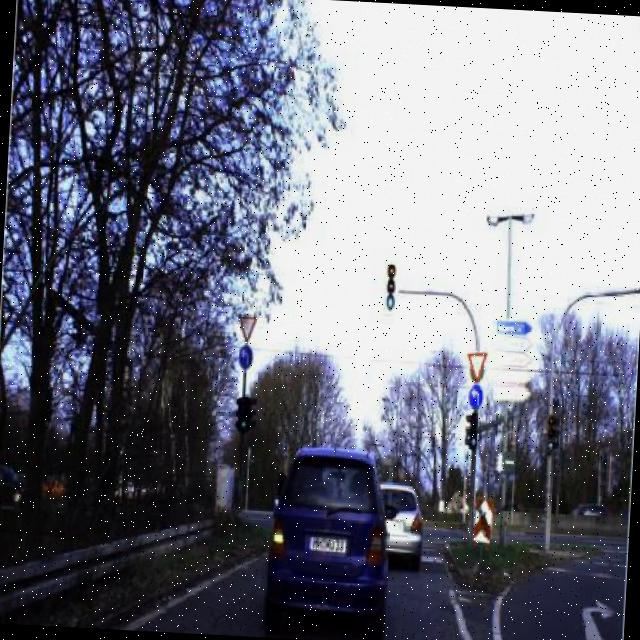Ustap pierwszenstwa: (234, 313, 260, 345), (464, 351, 490, 381)
